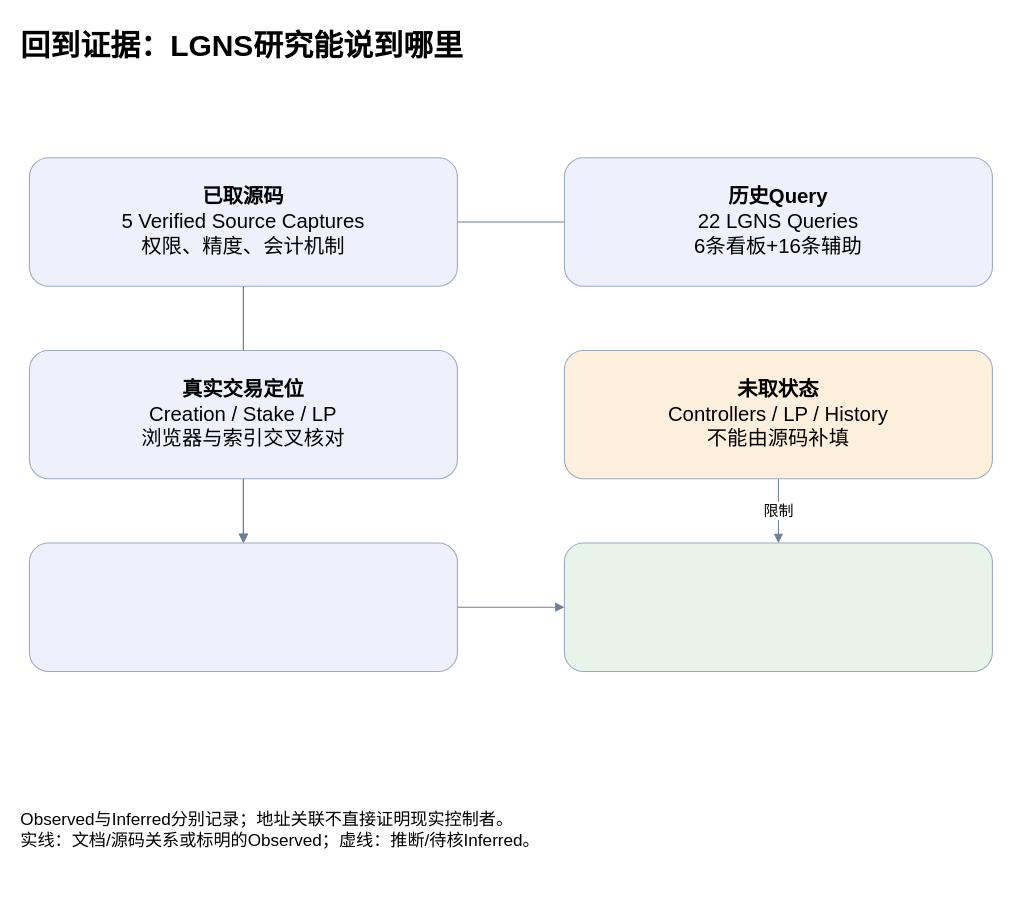
Some shapes in this 1021 by 908 pixel diagram are drawn without their labels. The box of each missing label's shape, as (x1, y1, x2, y2) in pixels:
可陈述事实 Capabilities + Old Observations 限定时点与来源: (28, 542, 457, 671)
结论 Risk Questions Remain 不作诈骗或安全认定: (563, 542, 992, 671)
